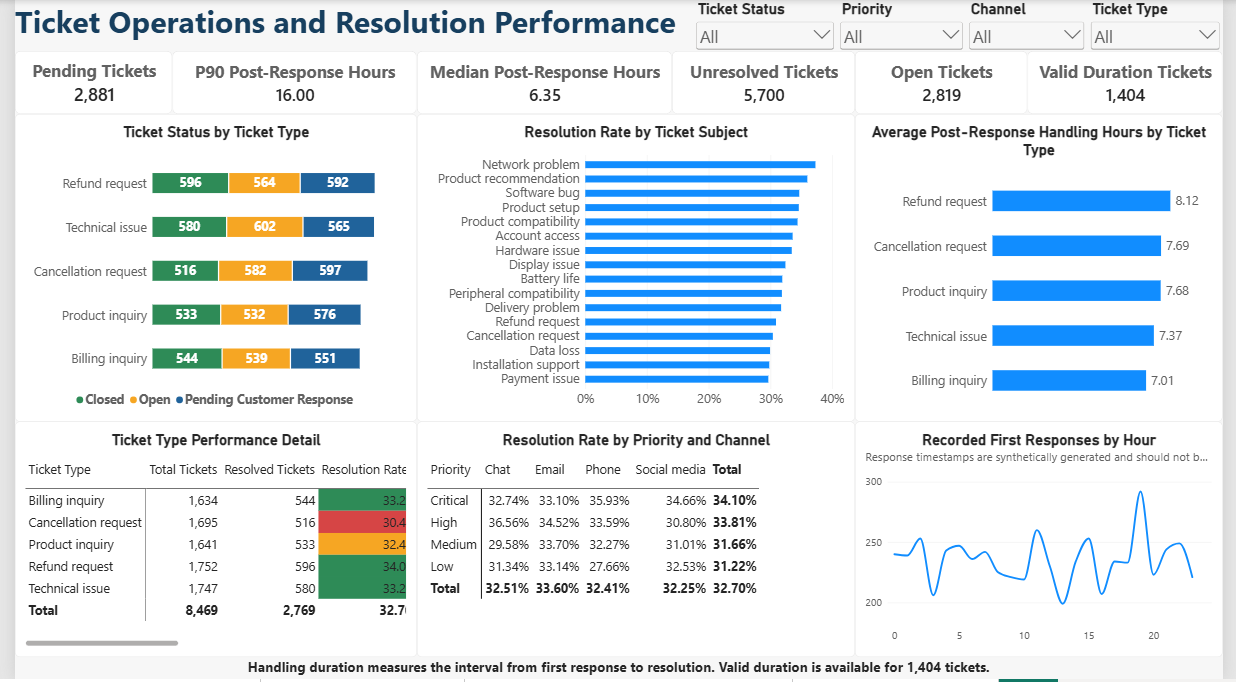

Layout of this report page (visuals, bound fields, positions):
{"tool":"powerbi","page":{"name":"Ticket Operations","canvas":[1920,1080],"ordinal":1},"visuals":[{"type":"textbox","box":[0,0,1078.4,81.1],"z":0},{"type":"slicer","fields":{"Values":["FactTickets.ticket_status"]},"box":[1078.4,0,229,100.2],"z":1},{"type":"slicer","fields":{"Values":["DimPriority.priority"]},"box":[1307.5,0,205.2,100.2],"z":2},{"type":"slicer","fields":{"Values":["DimChannel.channel"]},"box":[1512.7,0,193.3,100.2],"z":3},{"type":"slicer","fields":{"Values":["DimTicketType.ticket_type"]},"box":[1705.9,0,214.7,100.2],"z":4},{"type":"cardVisual","fields":{"Data":["FactTickets.Unresolved Tickets"]},"box":[1045,81.1,291.1,100.2],"z":5},{"type":"cardVisual","fields":{"Data":["FactTickets.Pending Tickets"]},"box":[0,81.1,250.5,100.2],"z":6},{"type":"cardVisual","fields":{"Data":["FactTickets.Open Tickets"]},"box":[1336.1,81.1,274.4,100.2],"z":7},{"type":"cardVisual","fields":{"Data":["FactTickets.Valid Duration Tickets"]},"box":[1610.5,81.1,310.2,100.2],"z":8},{"type":"cardVisual","title":"Median Post-Response Hours","fields":{"Data":["FactTickets.Median Handling Hours"]},"box":[639.4,81.1,405.6,100.2],"z":9},{"type":"cardVisual","fields":{"Data":["FactTickets.P90 Handling Hours"]},"box":[250.5,81.1,388.9,100.2],"z":10},{"type":"barChart","title":"Ticket Status by Ticket Type","fields":{"Category":["DimTicketType.ticket_type"],"Series":["FactTickets.ticket_status"],"Y":["FactTickets.Total Tickets"]},"box":[0,181.3,639.4,489.1],"z":11},{"type":"clusteredBarChart","title":"Resolution Rate by Ticket Subject","fields":{"Category":["DimSubject.subject"],"Y":["FactTickets.Resolution Rate %"]},"box":[639.4,181.3,696.7,489.1],"z":12},{"type":"pivotTable","title":"Ticket Type Performance Detail","fields":{"Rows":["DimTicketType.ticket_type"],"Values":["FactTickets.Total Tickets","FactTickets.Resolved Tickets","FactTickets.Resolution Rate %","FactTickets.Average Handling Hours","FactTickets.Median Handling Hours","FactTickets.Average CSAT"]},"box":[0,670.4,639.4,374.6],"z":13},{"type":"pivotTable","title":"Resolution Rate by Priority and Channel","fields":{"Columns":["DimChannel.channel"],"Rows":["DimPriority.priority"],"Values":["FactTickets.Resolution Rate %"]},"box":[639.4,670.4,696.7,374.6],"z":14},{"type":"clusteredBarChart","title":"Average Post-Response Handling Hours by Ticket Type","fields":{"Category":["DimTicketType.ticket_type"],"Y":["FactTickets.Average Handling Hours"]},"box":[1336.1,181.3,584.5,489.1],"z":15},{"type":"lineChart","title":"Recorded First Responses by Hour","fields":{"Category":["FactTickets.response_hour"],"Y":["FactTickets.Responded Tickets"]},"box":[1336.1,670.4,584.5,374.6],"z":16},{"type":"textbox","box":[0,1045,1920.7,35.8],"z":17}]}

Visuals, with their boxes in screenshot pixels (x1, y1, x2, y2), scaled from the page's 1920x1080 canvas onto the 1236x682 screenshot:
textbox: l=0, t=0, r=694, b=51
slicer - FactTickets.ticket_status: l=694, t=0, r=842, b=63
slicer - DimPriority.priority: l=842, t=0, r=974, b=63
slicer - DimChannel.channel: l=974, t=0, r=1098, b=63
slicer - DimTicketType.ticket_type: l=1098, t=0, r=1235, b=63
cardVisual - FactTickets.Unresolved Tickets: l=673, t=51, r=860, b=114
cardVisual - FactTickets.Pending Tickets: l=0, t=51, r=161, b=114
cardVisual - FactTickets.Open Tickets: l=860, t=51, r=1037, b=114
cardVisual - FactTickets.Valid Duration Tickets: l=1037, t=51, r=1235, b=114
"Median Post-Response Hours" cardVisual: l=412, t=51, r=673, b=114
cardVisual - FactTickets.P90 Handling Hours: l=161, t=51, r=412, b=114
"Ticket Status by Ticket Type" barChart: l=0, t=114, r=412, b=423
"Resolution Rate by Ticket Subject" clusteredBarChart: l=412, t=114, r=860, b=423
"Ticket Type Performance Detail" pivotTable: l=0, t=423, r=412, b=660
"Resolution Rate by Priority and Channel" pivotTable: l=412, t=423, r=860, b=660
"Average Post-Response Handling Hours by Ticket Type" clusteredBarChart: l=860, t=114, r=1235, b=423
"Recorded First Responses by Hour" lineChart: l=860, t=423, r=1235, b=660
textbox: l=0, t=660, r=1235, b=681
